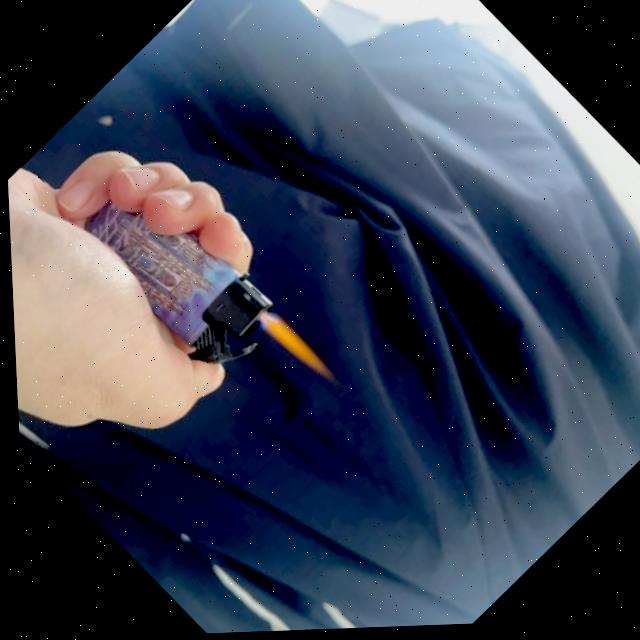Fire: (250, 306, 331, 392)
